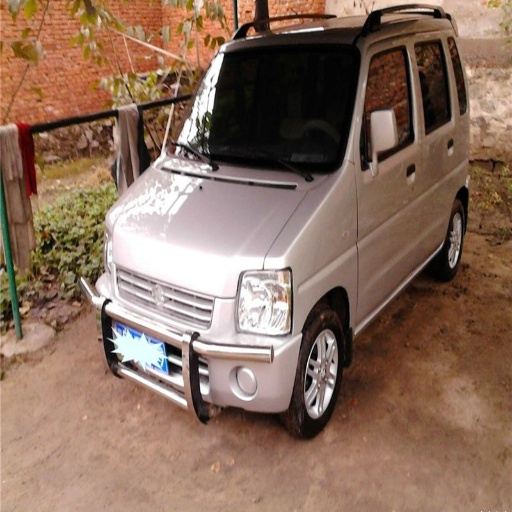front_bumper: (191, 336, 301, 411)
front_glass: (173, 44, 360, 171)
front_left_door: (358, 60, 421, 321)
